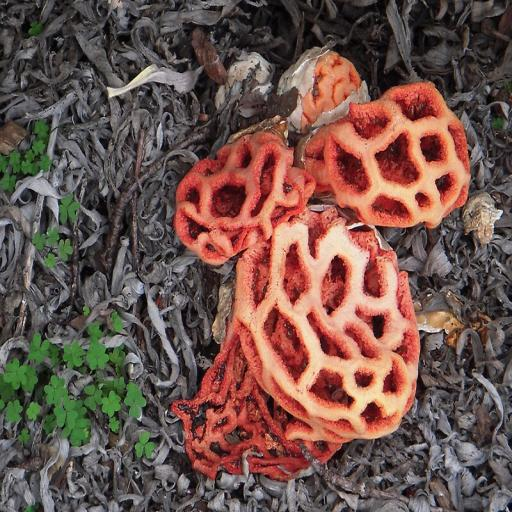Red Cage Fungus: (188, 208, 420, 486), (302, 78, 472, 231), (176, 121, 309, 258)
